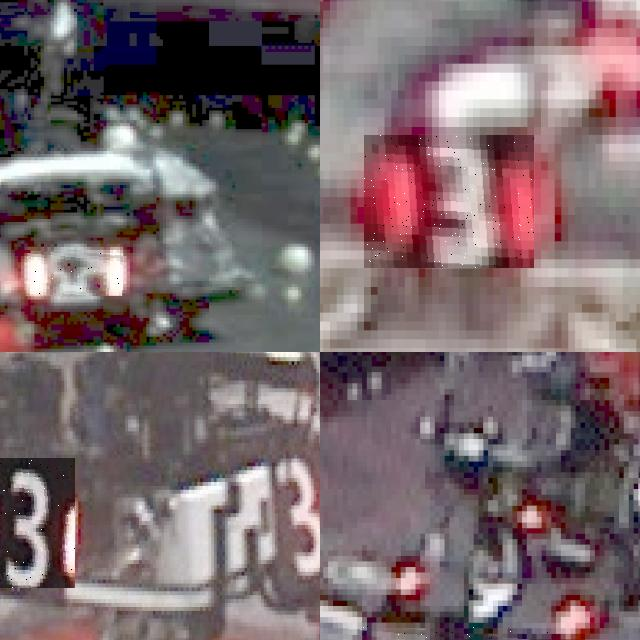R3: (364, 135, 534, 268), (0, 458, 75, 587)
Rs: (25, 247, 123, 296)
